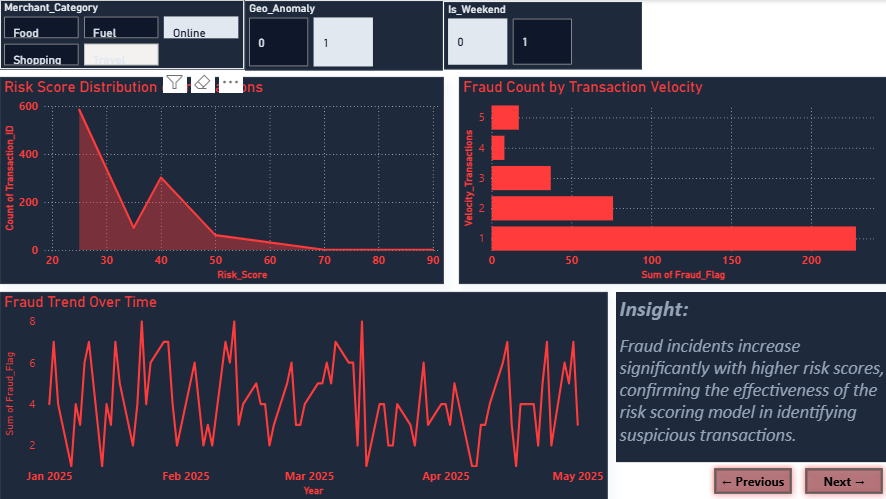

The dashboard page shown, as its layout file describes it:
{"tool":"powerbi","page":{"name":"Page 2","canvas":[1280,720],"ordinal":2},"visuals":[{"type":"clusteredBarChart","title":"Fraud Count by Transaction Velocity","fields":{"Category":["credit_card_dataset_1.Velocity_Transactions"],"Y":["Sum(credit_card_dataset_1.Fraud_Flag)"]},"box":[661,110.9,619.2,298.1],"z":0},{"type":"areaChart","title":"Risk Score Distribution of Transactions","fields":{"Category":["credit_card_dataset_1.Risk_Score"],"Y":["CountNonNull(credit_card_dataset_1.Transaction_ID)"]},"box":[0,110.9,639.4,298.1],"z":1000},{"type":"advancedSlicerVisual","fields":{"Values":["credit_card_dataset_1.Merchant_Category"]},"box":[0,0,351.7,100],"z":2000},{"type":"advancedSlicerVisual","fields":{"Values":["credit_card_dataset_1.Geo_Anomaly"]},"box":[353.3,1.7,285,100],"z":3000},{"type":"advancedSlicerVisual","fields":{"Values":["credit_card_dataset_1.Is_Weekend"]},"box":[640,3.3,285,96.7],"z":4000},{"type":"lineChart","title":"Fraud Trend Over Time","fields":{"Y":["Sum(credit_card_dataset_1.Fraud_Flag)"],"Category":["credit_card_dataset_1.Transaction_Date.Variation.Date Hierarchy.Year","credit_card_dataset_1.Transaction_Date.Variation.Date Hierarchy.Quarter","credit_card_dataset_1.Transaction_Date.Variation.Date Hierarchy.Month","credit_card_dataset_1.Transaction_Date.Variation.Date Hierarchy.Day"]},"box":[0,420,875,300],"z":5000},{"type":"textbox","box":[887,420.5,393.1,244.8],"z":6000},{"type":"actionButton","box":[1150.6,665.3,129.6,54.7],"z":7000},{"type":"actionButton","box":[1019.5,665.3,129.6,54.7],"z":8000}]}

Visuals, with their boxes in screenshot pixels (x1, y1, x2, y2), scaled from the page's 1280x720 canvas onto the 886x499 screenshot:
"Fraud Count by Transaction Velocity" clusteredBarChart: 458/77/885/283
"Risk Score Distribution of Transactions" areaChart: 0/77/443/283
advancedSlicerVisual - credit_card_dataset_1.Merchant_Category: 0/0/243/69
advancedSlicerVisual - credit_card_dataset_1.Geo_Anomaly: 245/1/442/70
advancedSlicerVisual - credit_card_dataset_1.Is_Weekend: 443/2/640/69
"Fraud Trend Over Time" lineChart: 0/291/606/498
textbox: 614/291/885/461
actionButton: 796/461/885/498
actionButton: 706/461/795/498
